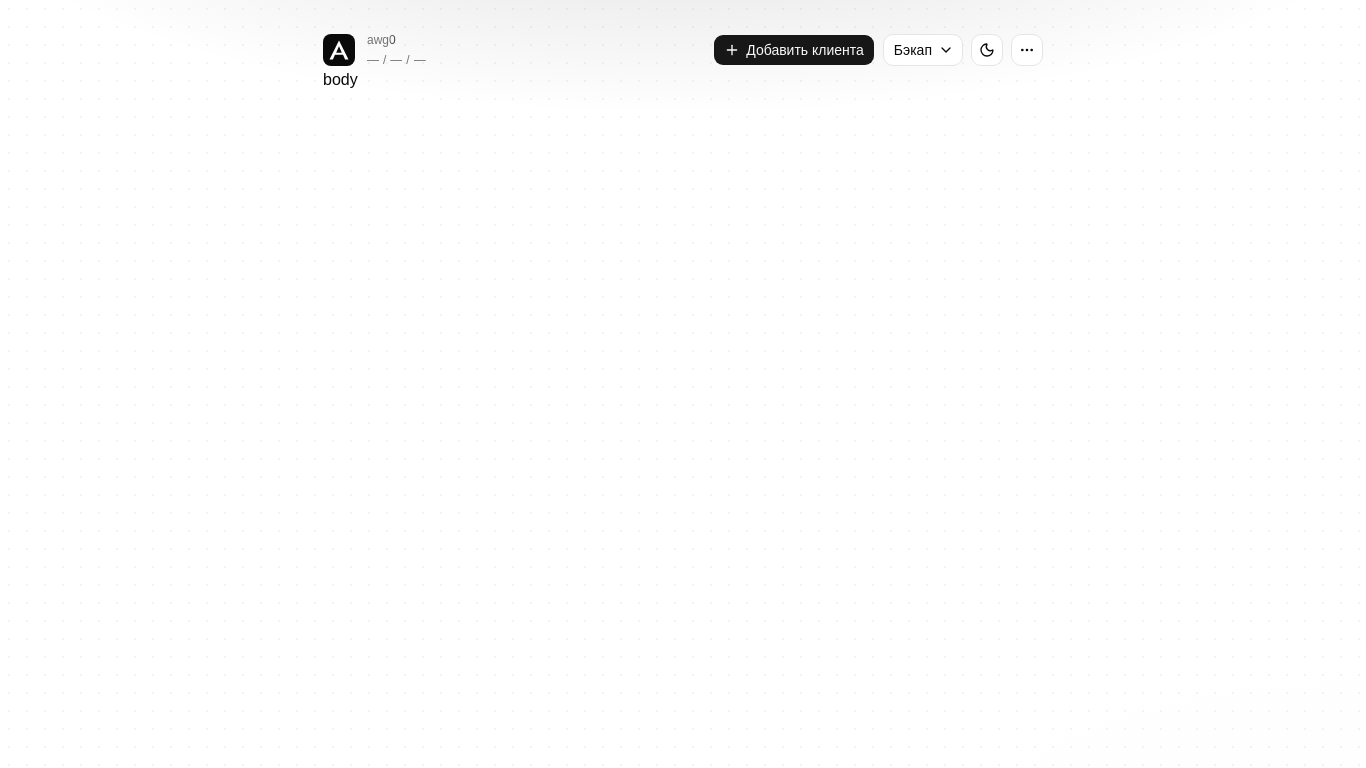
Test: AppShell header › has no overflow menu, logout, system theme, or account
Expected: the picture named "AVL" is shown, [323,34,355,66]
Click the button "Бэкап" at (923, 50), box [883,34,963,66]
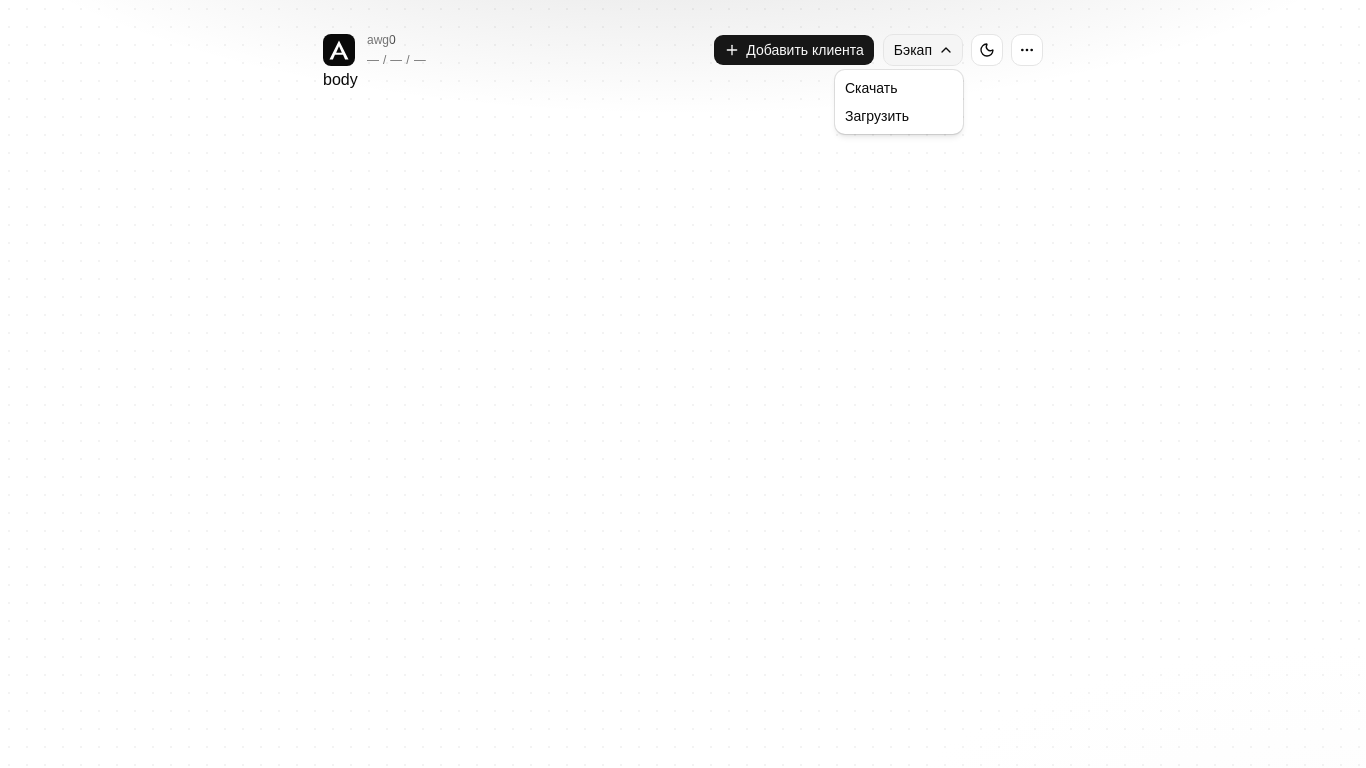
Result: the menu item "Скачать" is shown at [845,80,898,96]
Result: the menu item "Загрузить" is shown at [845,108,909,124]
